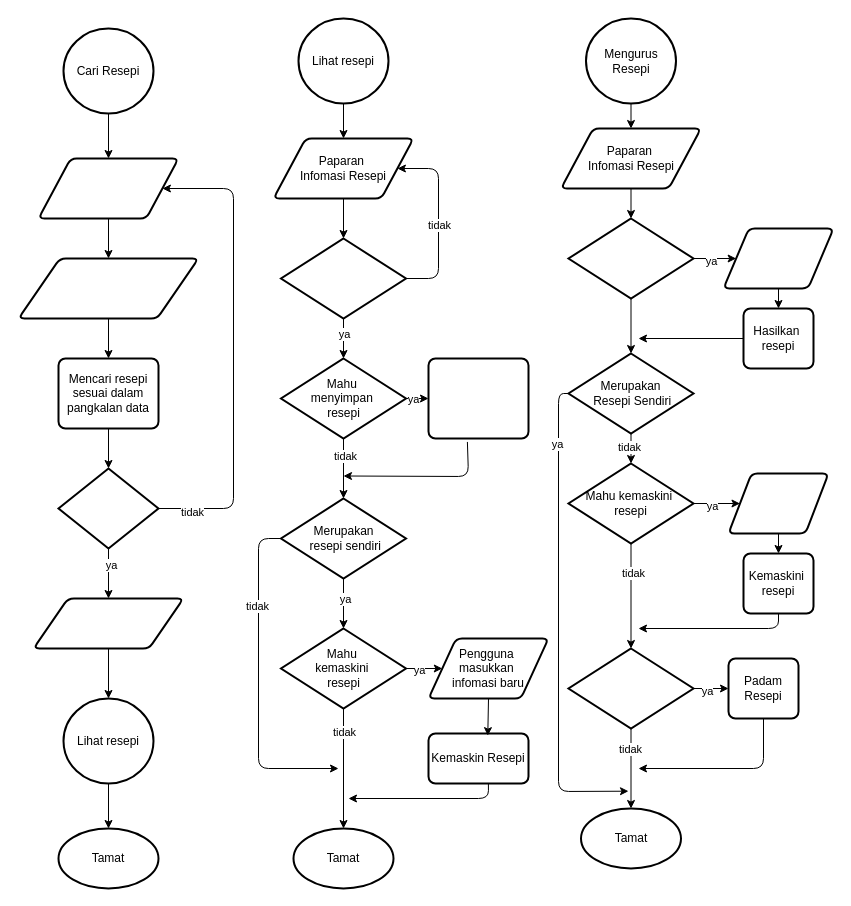
The diagram is 851 pixels wide and 906 high, and some of its shapes have lost their labels. The shapes that lost their labels are listed below. From the top down, each one's box as (x1, y1, x2, y2) in pixels, then its label:
(37, 157, 179, 219): Paparan mencari resepi
(280, 237, 406, 319): Pengguna telah Log Masuk
(567, 217, 694, 299): Mahu hasilkan resepi baru
(722, 227, 834, 289): Pengguna masukkan infomasi resepi
(17, 257, 199, 319): Pengguna masukkan kata kunci atau bahan berkenaan resepi
(427, 357, 529, 439): Tetapkan resepi dalam simpanan pengguna
(57, 467, 159, 549): Menjumpai resepi yang sesuai
(727, 472, 829, 534): Pengguna kemaskini resepi
(32, 597, 184, 649): Papar senarai resepi yang sesuai
(567, 647, 694, 729): Mahu padam resepi
